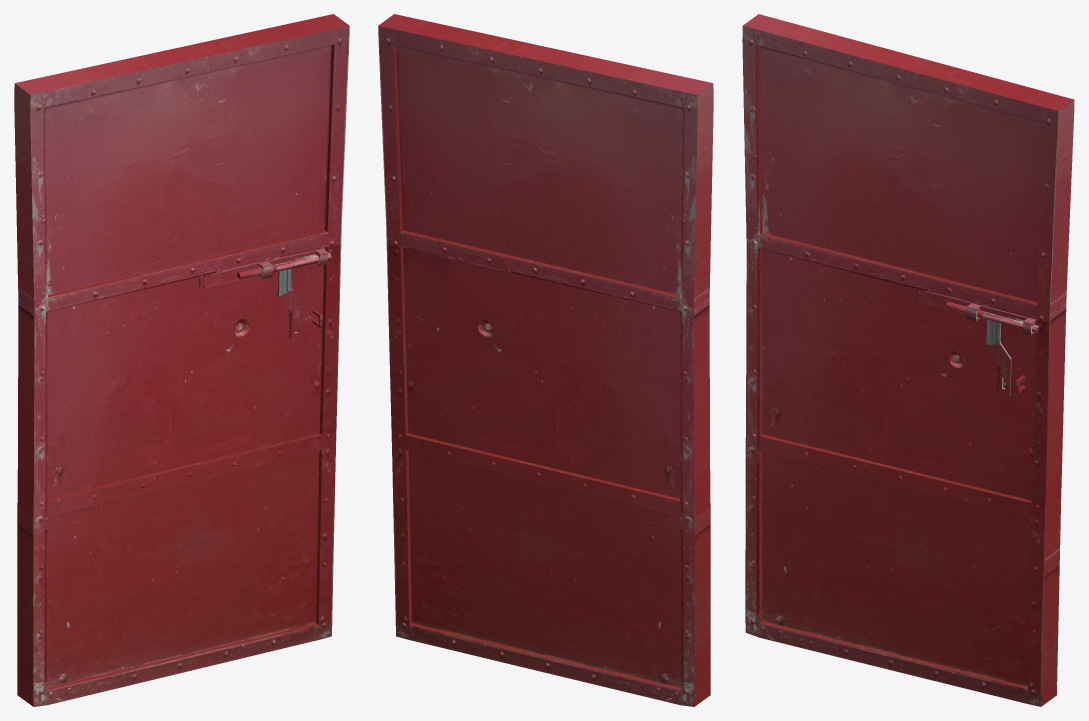
The model's file is Door_Metal.fbx.
3 renders of one model, left to right at view 1: azimuth 30°, elevation 25°; view 2: azimuth 150°, elevation 25°; view 3: azimuth 330°, elevation 25°, orthographic.
Visible parts, largest first — view 1: Cube.003; view 2: Cube.003; view 3: Cube.003.
Boxes of the visible parts, x1,y1,x2,y2 form: Cube.003: (14, 14, 349, 706); Cube.003: (378, 14, 713, 706); Cube.003: (742, 14, 1074, 706).
Bounding box in the file's own units: 184 × 339 × 23.39.
